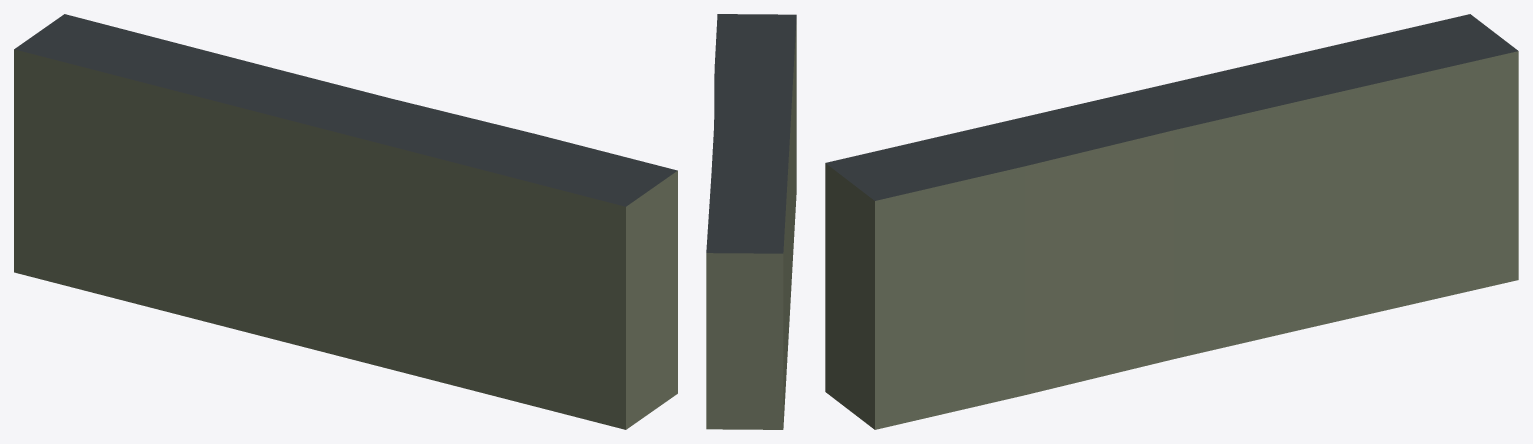
File: nyc-1022619-0.glb
The picture shows the model from 3 angles, left to right: view 1: azimuth 30°, elevation 25°; view 2: azimuth 150°, elevation 25°; view 3: azimuth 270°, elevation 25°; orthographic projection. The views are drawn at different scales.
Visible parts, largest first — view 1: nyc-1022619-0; view 2: nyc-1022619-0; view 3: nyc-1022619-0.
Boxes of the visible parts, box(x1,y1,x2,y2) form: nyc-1022619-0: box(14, 14, 677, 429); nyc-1022619-0: box(706, 14, 796, 429); nyc-1022619-0: box(825, 14, 1518, 429).
Size of the model in its own units: 20.48 by 11.69 by 32.09.
